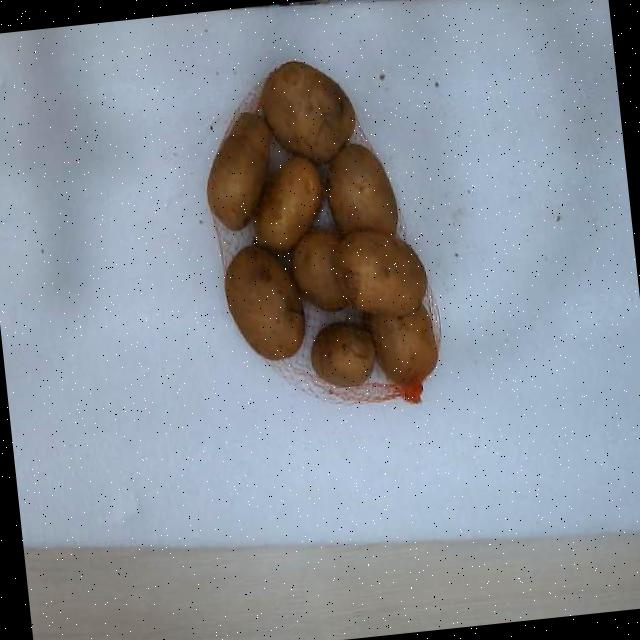potato: (260, 61, 354, 161), (223, 247, 304, 359), (336, 229, 424, 315), (206, 113, 267, 229), (253, 156, 321, 250), (327, 145, 396, 235), (367, 306, 436, 385), (292, 229, 346, 310), (309, 323, 373, 386)
